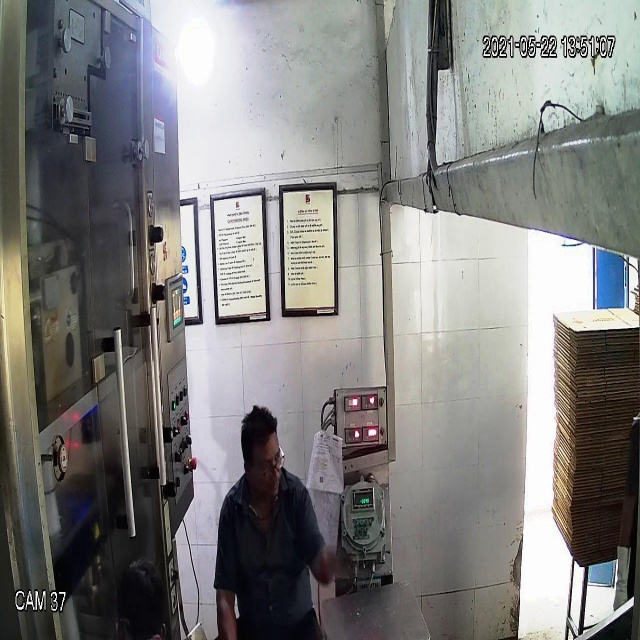Gafas: (239, 448, 288, 480)
